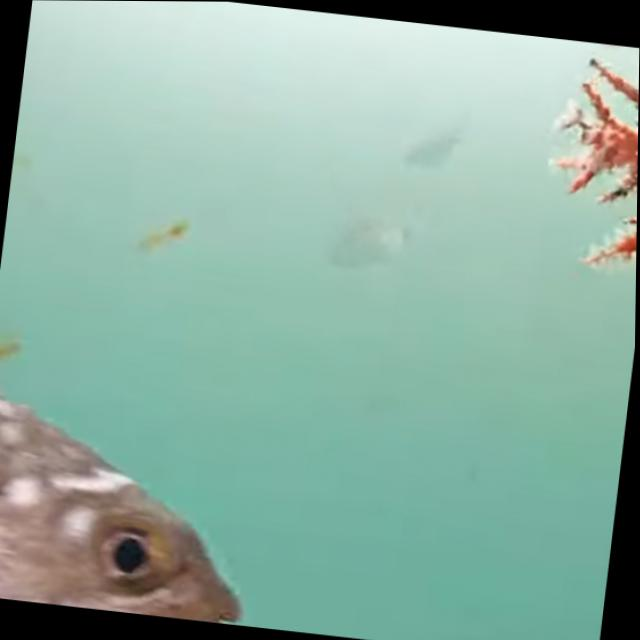fish: (0, 315, 285, 626)
